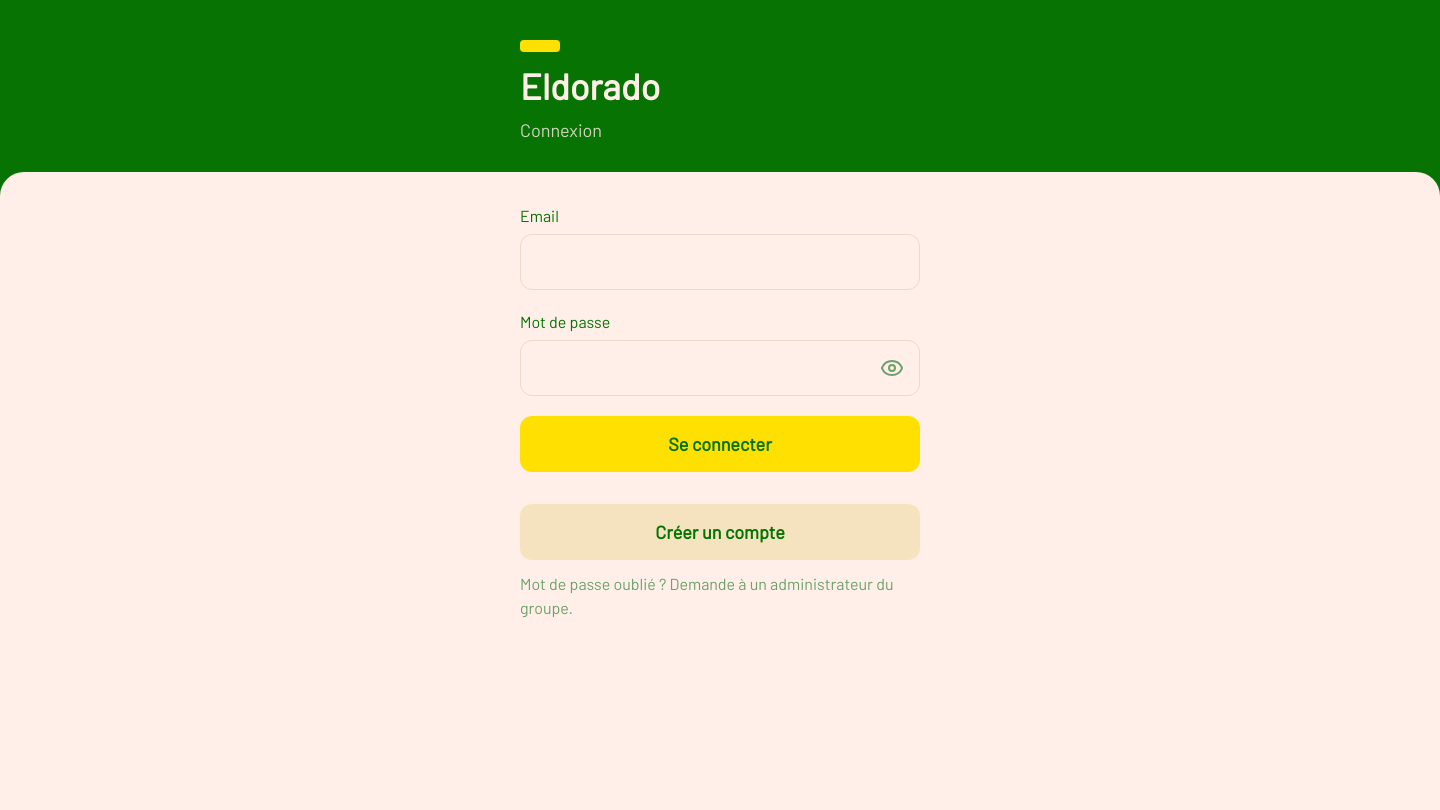
Test: LoginScreen › signale les champs vides sans appeler Supabase
Click the button "Se connecter".
click(720, 444)  # box [520,416,920,472]
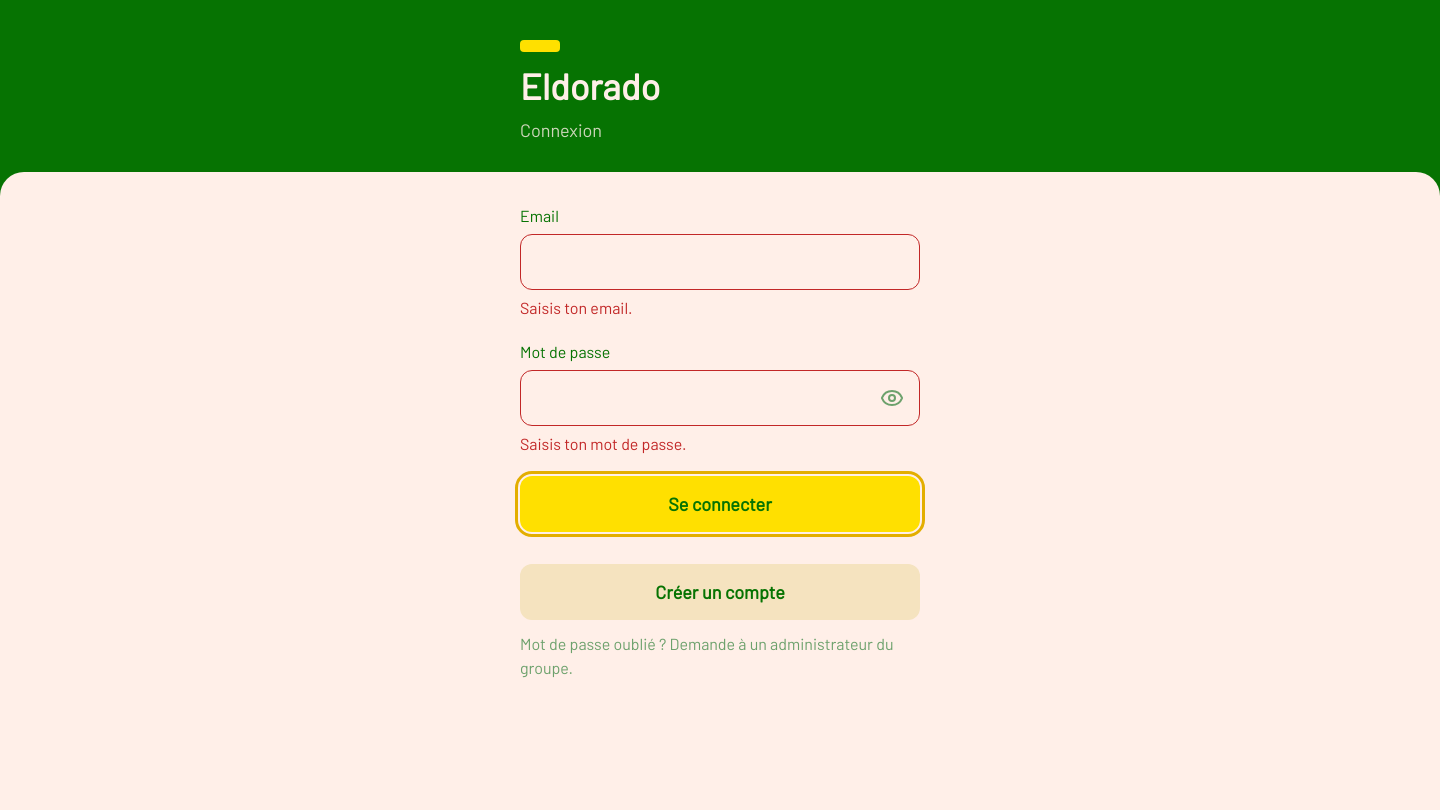
expect the text "Saisis ton email." is shown: met, box [520,298,632,317]
expect the text "Saisis ton mot de passe." is shown: met, box [520,434,686,453]
